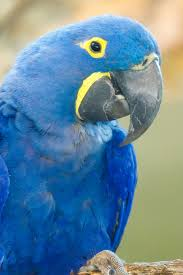guacamaya: (1, 13, 166, 275)
